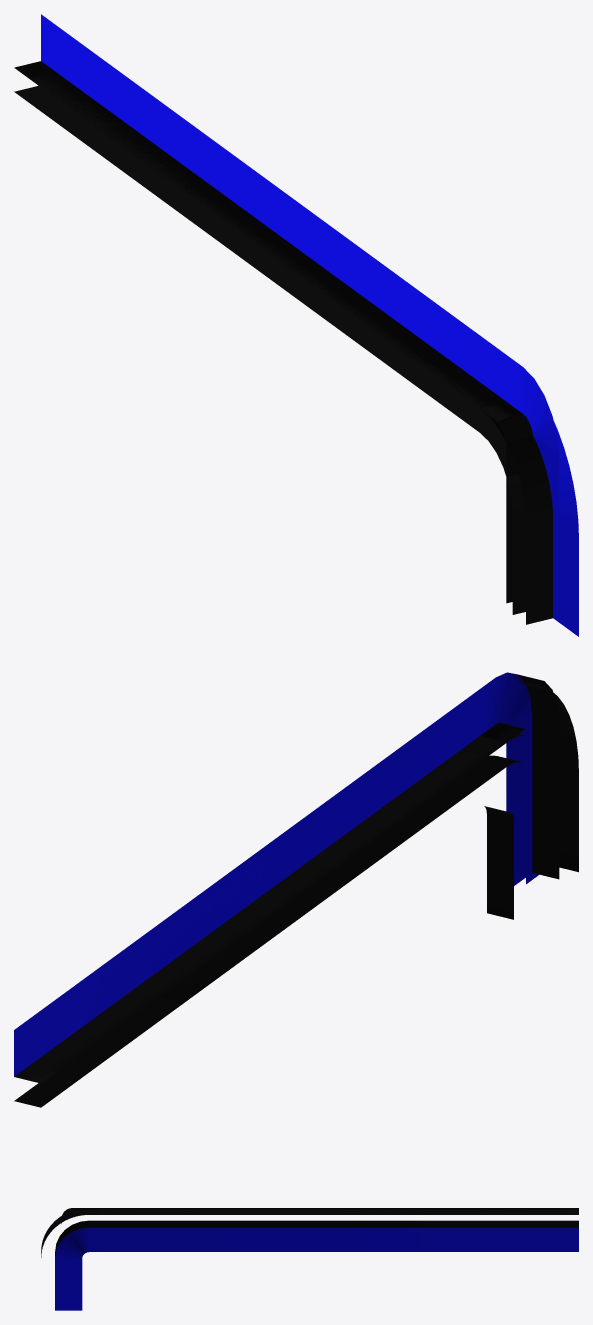
File: PowerflowsForBatteries.glb
3 renders of one model, top to bottom at view 1: azimuth 30°, elevation 25°; view 2: azimuth 150°, elevation 25°; view 3: azimuth 270°, elevation 25°, orthographic. The views are drawn at different scales.
Parts seen in each view (by area): view 1: PowerflowBatteryWithoutInverter-2-A, PowerflowBatteryWithoutInverter-1-A, PowerflowBatteryWithoutInverter-2-B; view 2: PowerflowBatteryWithoutInverter-2-A, PowerflowBatteryWithoutInverter-1-A, PowerflowBatteryWithoutInverter-2-B; view 3: PowerflowBatteryWithoutInverter-2-B, PowerflowBatteryWithoutInverter-2-A, PowerflowBatteryWithoutInverter-1-A.
Boxes of the visible parts, bbox=[...] form: PowerflowBatteryWithoutInverter-2-A: bbox=[16, 15, 578, 636]; PowerflowBatteryWithoutInverter-1-A: bbox=[14, 14, 559, 615]; PowerflowBatteryWithoutInverter-2-B: bbox=[14, 86, 525, 614]; PowerflowBatteryWithoutInverter-2-A: bbox=[14, 678, 578, 1080]; PowerflowBatteryWithoutInverter-1-A: bbox=[14, 672, 559, 1083]; PowerflowBatteryWithoutInverter-2-B: bbox=[14, 755, 521, 1107]; PowerflowBatteryWithoutInverter-2-B: bbox=[55, 1220, 578, 1310]; PowerflowBatteryWithoutInverter-2-A: bbox=[41, 1209, 578, 1257]; PowerflowBatteryWithoutInverter-1-A: bbox=[61, 1208, 578, 1223].
Bounding box in the file's own units: 0.02 × 0.1615 × 0.6868.
